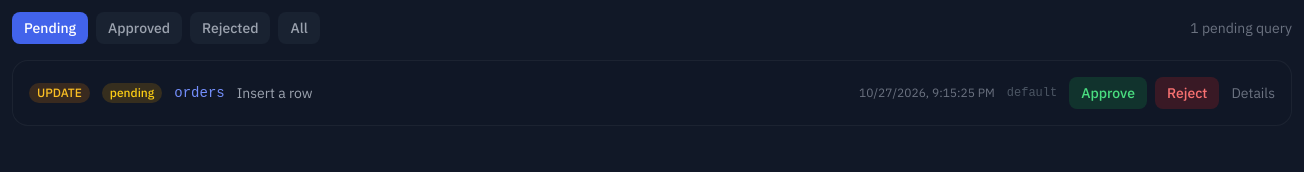
Test: PendingQueries › requires a second confirming click before approving an update entry
What coordinates should you click on to do the following:
click the button "Approve"
I would click on:
 (1108, 93)
Its box is 1069,77 -> 1147,109.
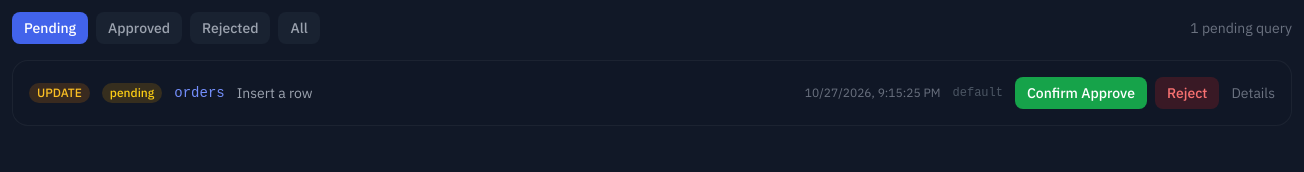
Expected: the button "Confirm Approve" is shown, 1015,77 -> 1147,109
